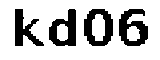0: (82, 6, 115, 46)
6: (118, 6, 149, 48)
d: (47, 7, 79, 48)
k: (9, 6, 45, 50)
